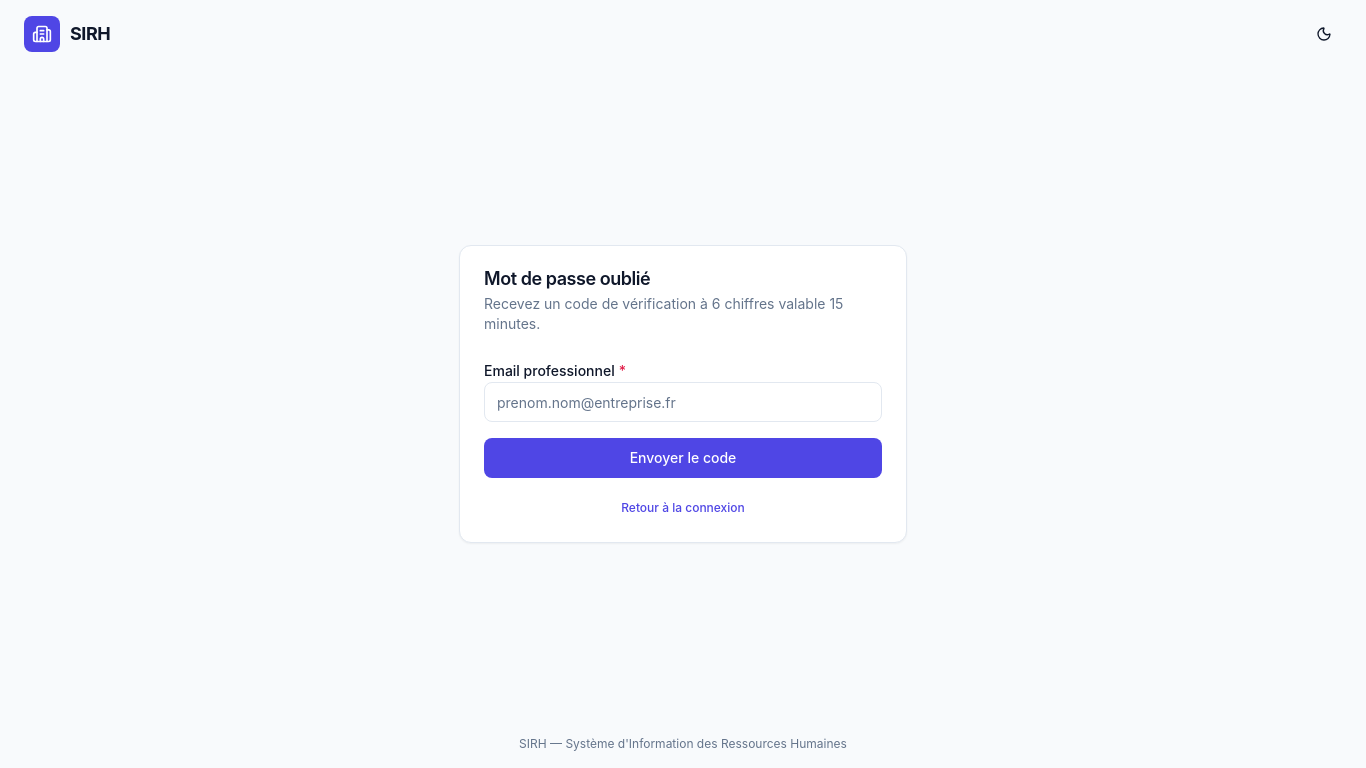
Test: Password & Session Security Flows › handles forgot-password (202) and reset-password with otpCode (204)
Type "alice@nova-conseil.fr" into the field labelled "Email professionnel*" at (683, 402), box [484,382,882,422]
Click the button "Envoyer le code" at (683, 458), box [484,438,882,478]
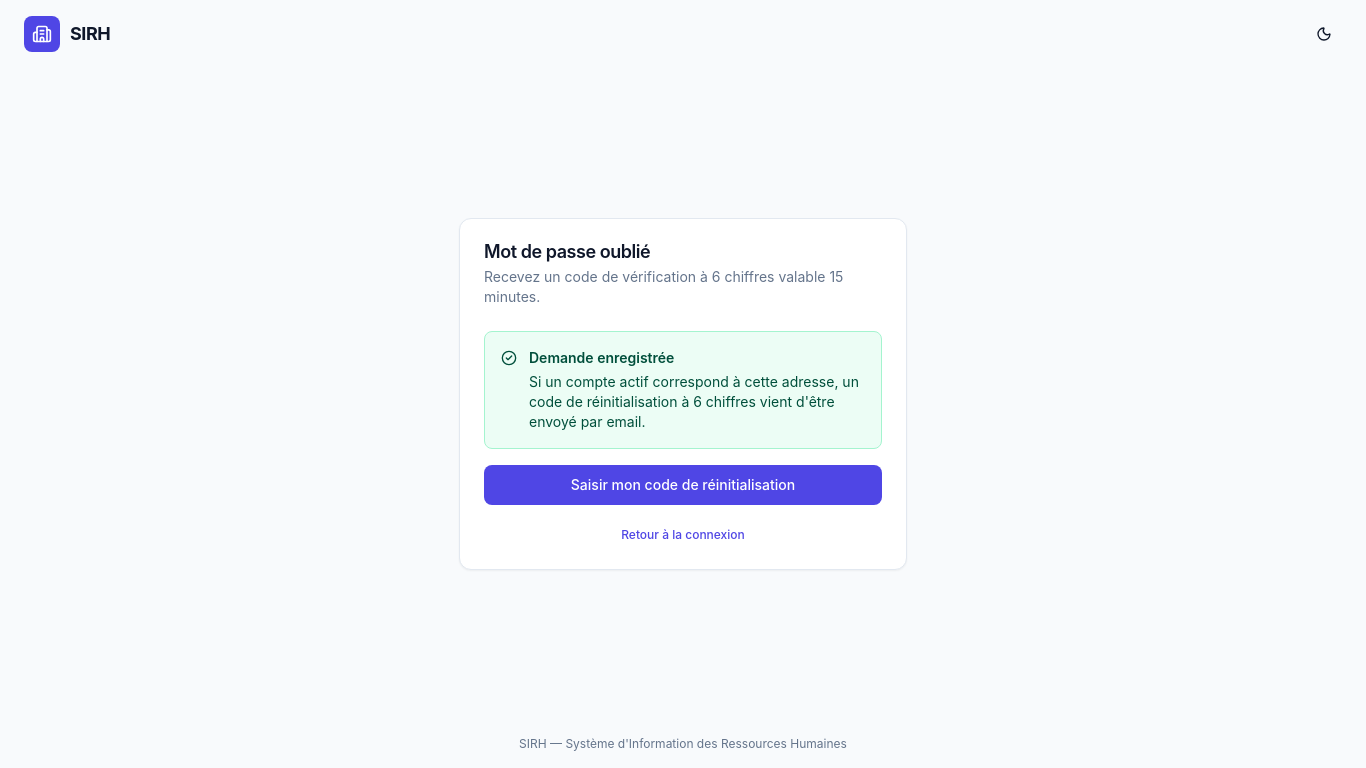
Expected: the text "Si un compte actif correspond" is shown, [529,373,859,430]
Click the link "Saisir mon code de réinitialisation" at (683, 485), box [484,465,882,505]
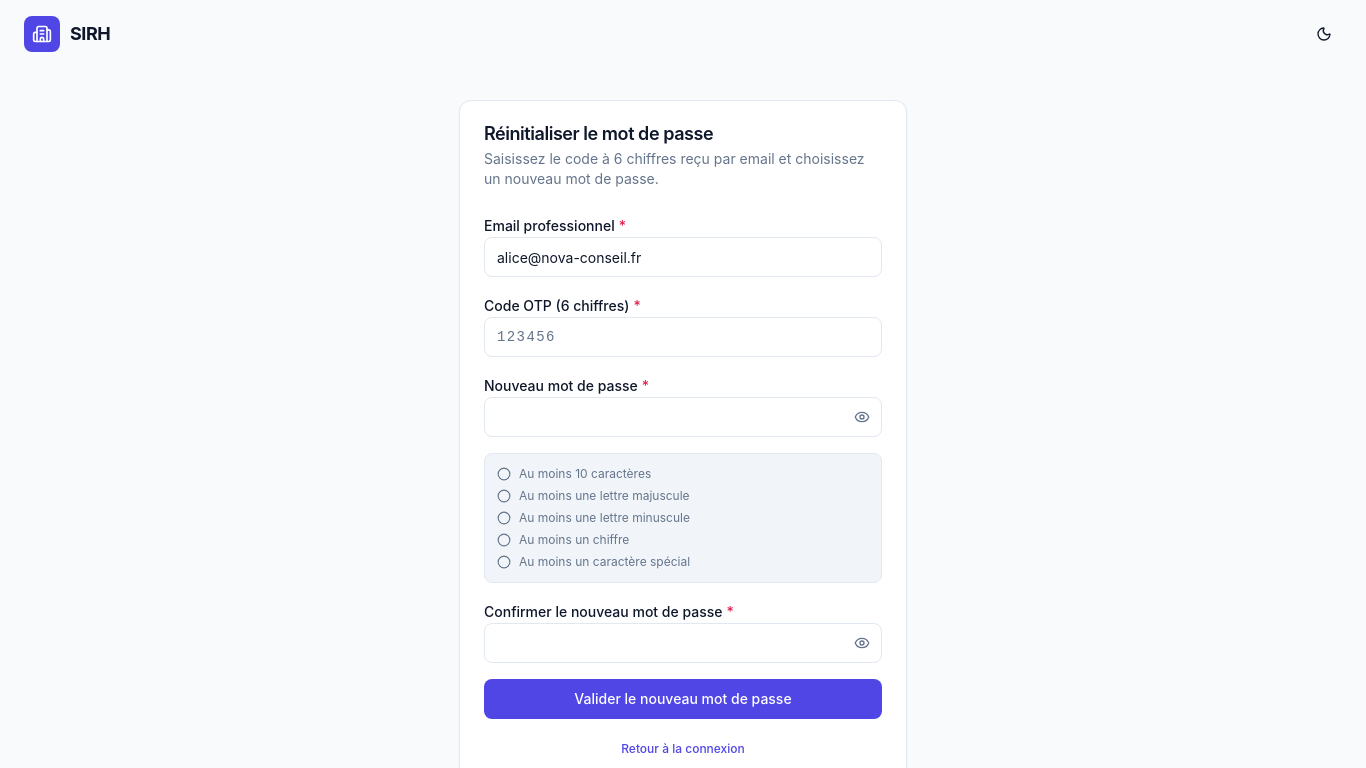
Expected: the heading "Réinitialiser le mot de passe" is shown, [484,123,713,144]
Type "654321" into the field labelled "Code OTP (6 chiffres)*" at (683, 337), box [484,317,882,357]
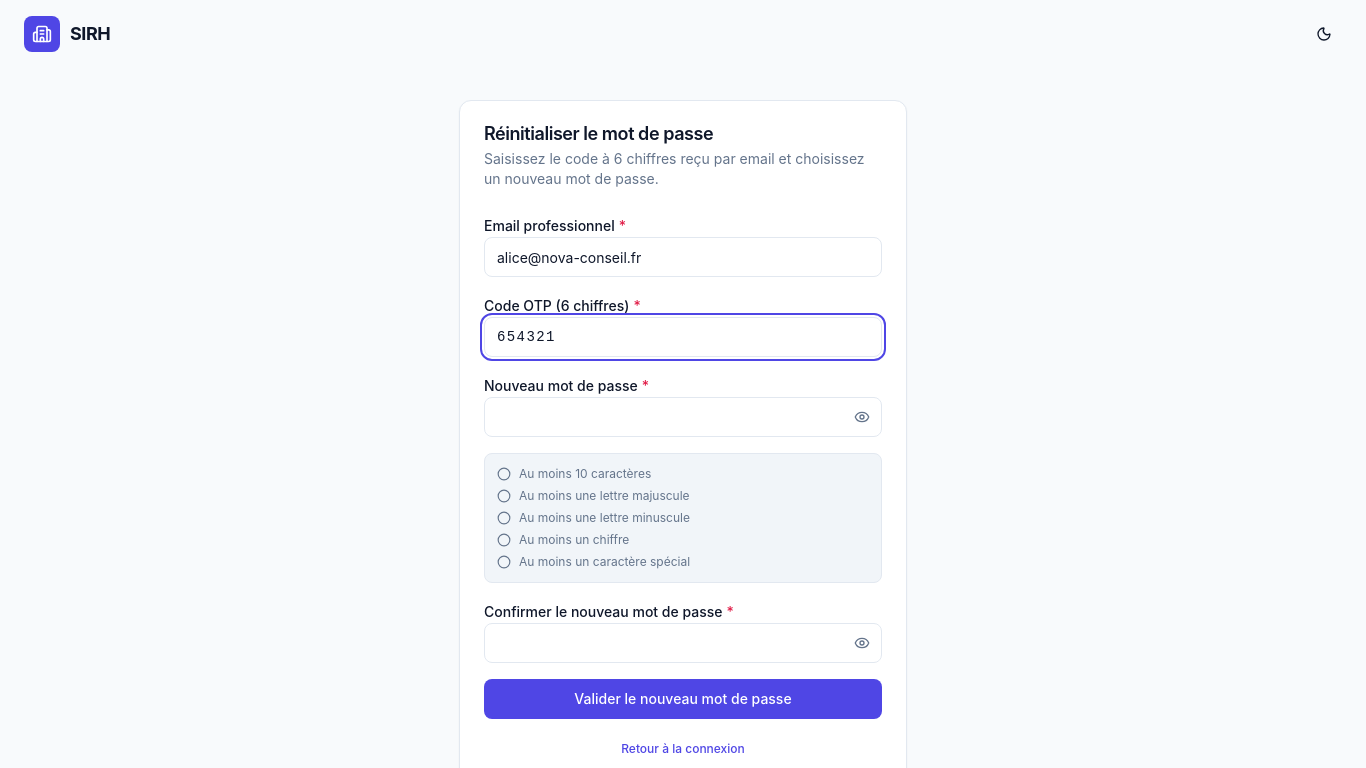
Type "NewStrongPass123!" into the password field labelled "Nouveau mot de passe*" at (683, 417), box [484,397,882,437]
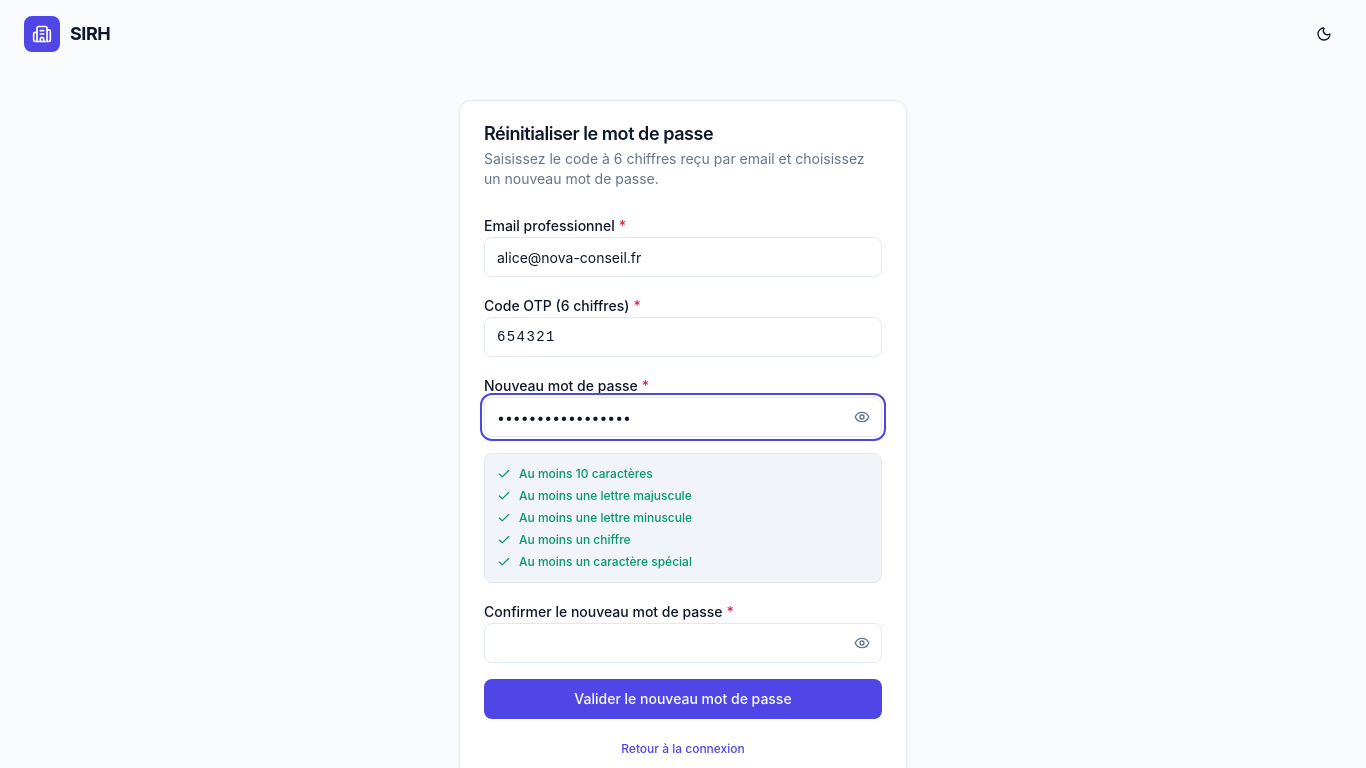
Type "NewStrongPass123!" into the password field labelled "Confirmer le nouveau mot de passe*" at (683, 643), box [484,623,882,663]
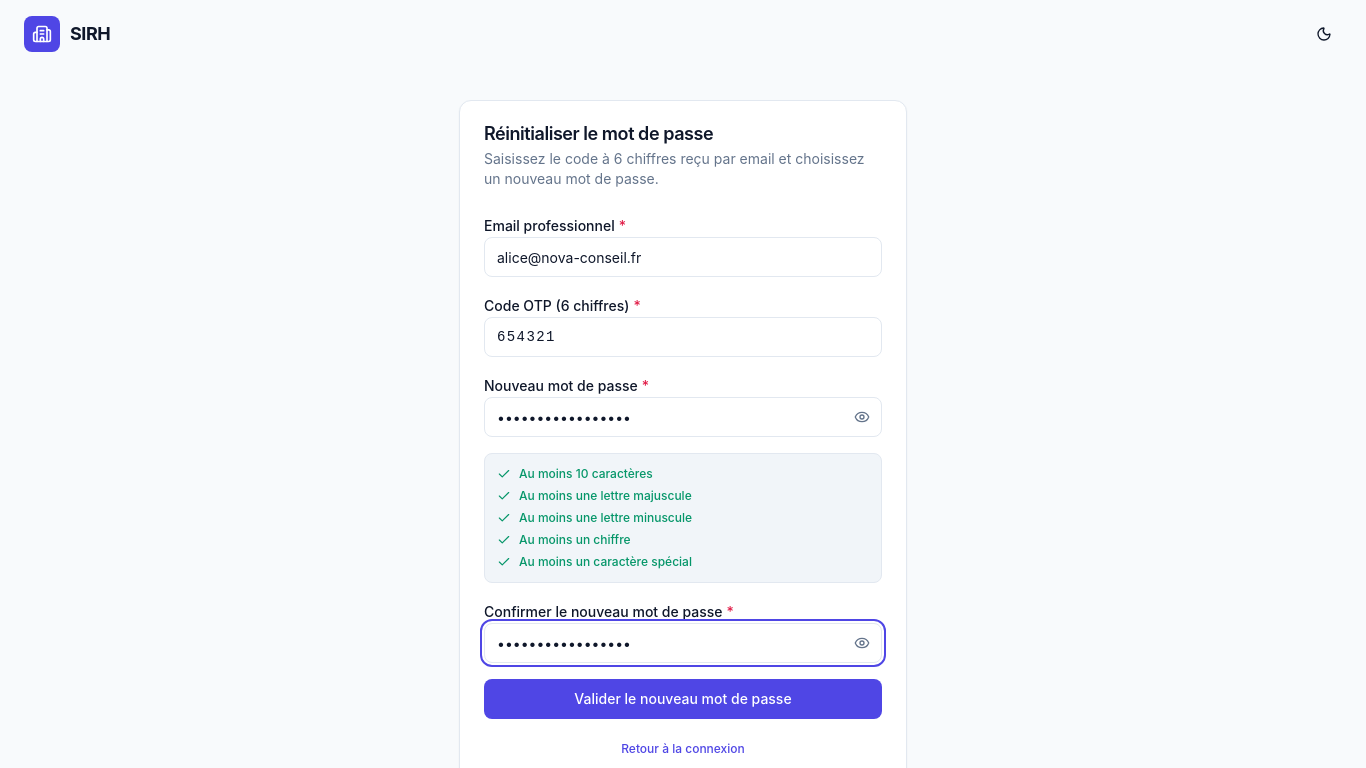
Click the button "Valider le nouveau mot de passe" at (683, 699), box [484,679,882,719]
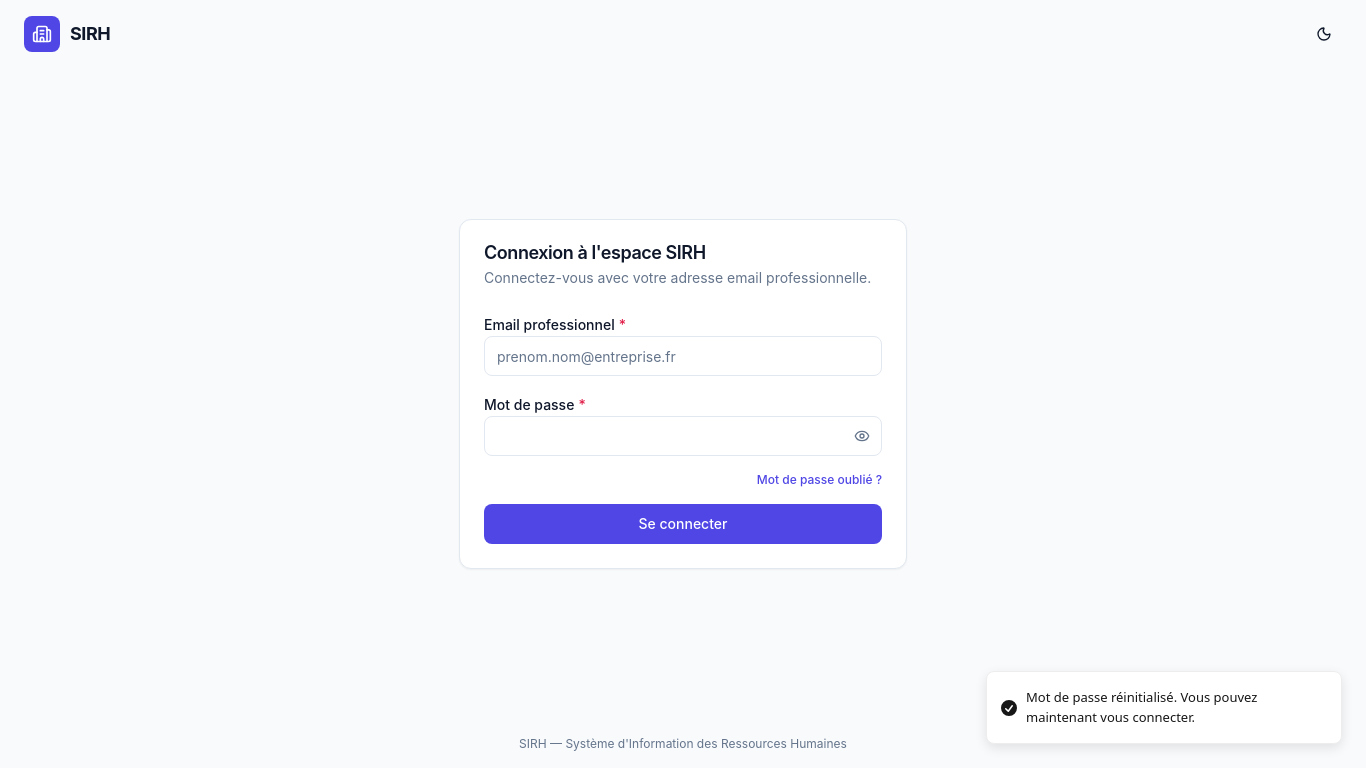
Expected: the heading "Connexion à l'espace SIRH" is shown, [484,242,706,263]
